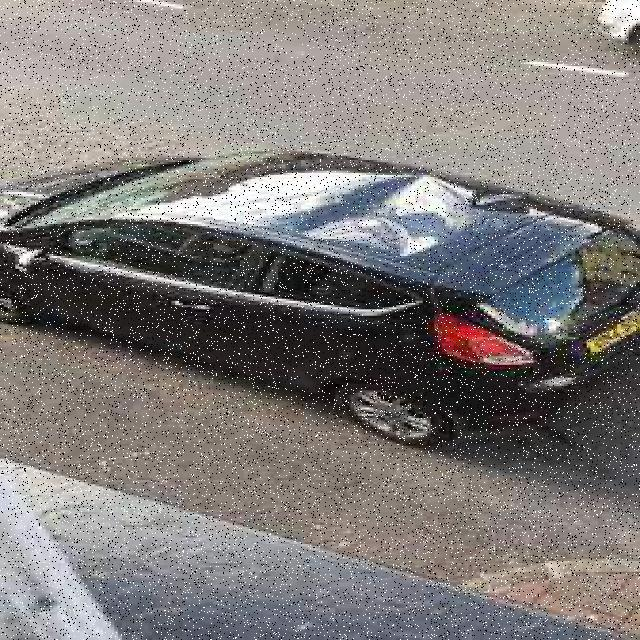roof-dent: (179, 150, 602, 276)
